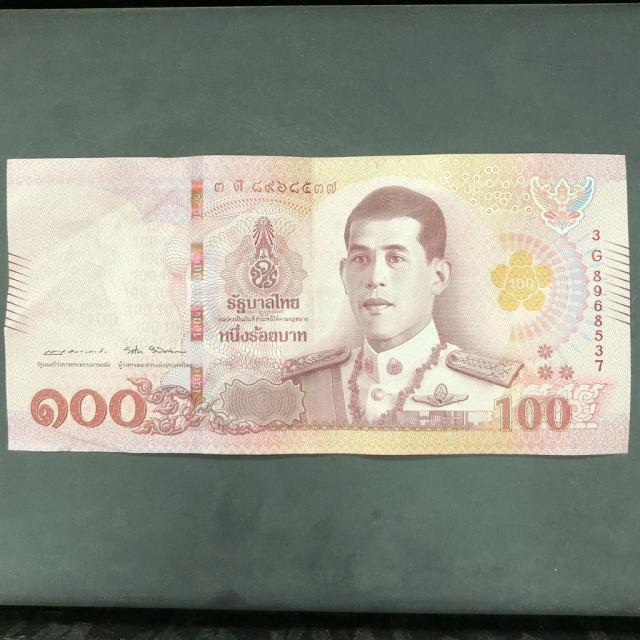THAI100: (4, 153, 630, 455)
